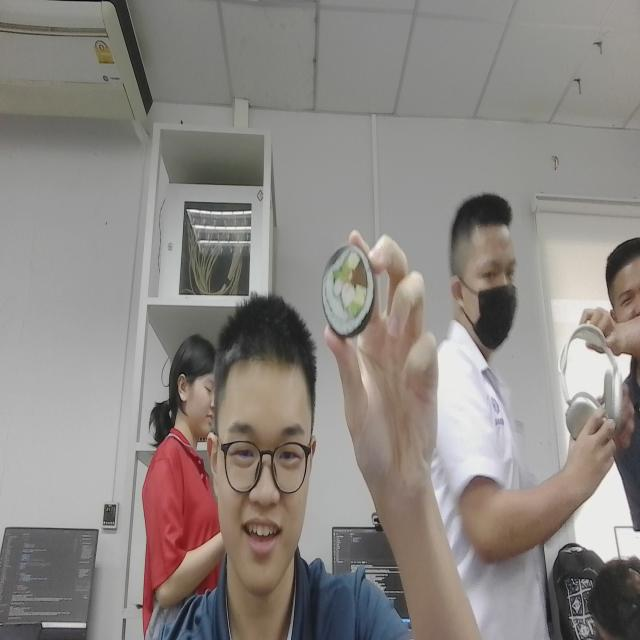sushi: (318, 237, 379, 345)
